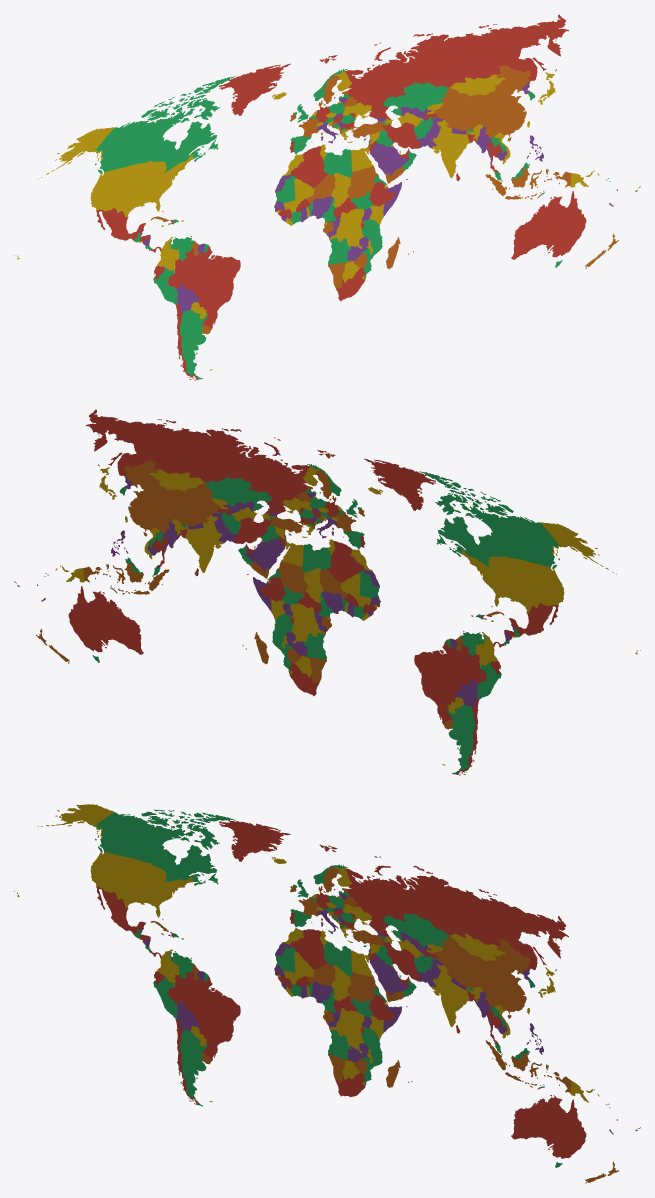
File: Brian_WithBorders.glb
The picture shows the model from 3 angles, top to bottom: view 1: azimuth 30°, elevation 25°; view 2: azimuth 150°, elevation 25°; view 3: azimuth 330°, elevation 25°; orthographic projection.
Visible parts, largest first — view 1: map; view 2: map; view 3: map.
Part boxes in pixels (x1,y1,x2,y2): map: [14, 14, 640, 380]; map: [14, 409, 640, 775]; map: [14, 804, 640, 1183].
Bounding box in the file's own units: 9.07 × 4.09 × 0.0189.
